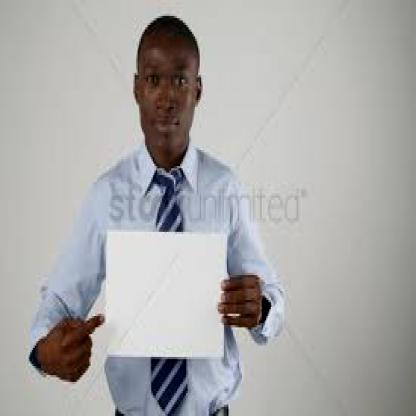Left: (41, 302, 105, 385)
